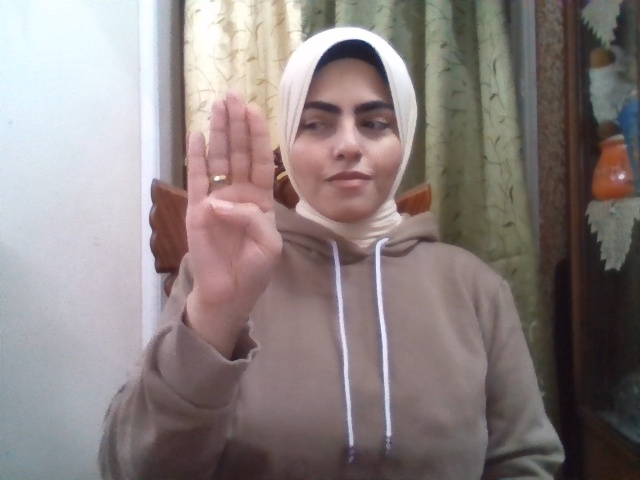B: (186, 92, 283, 317)
